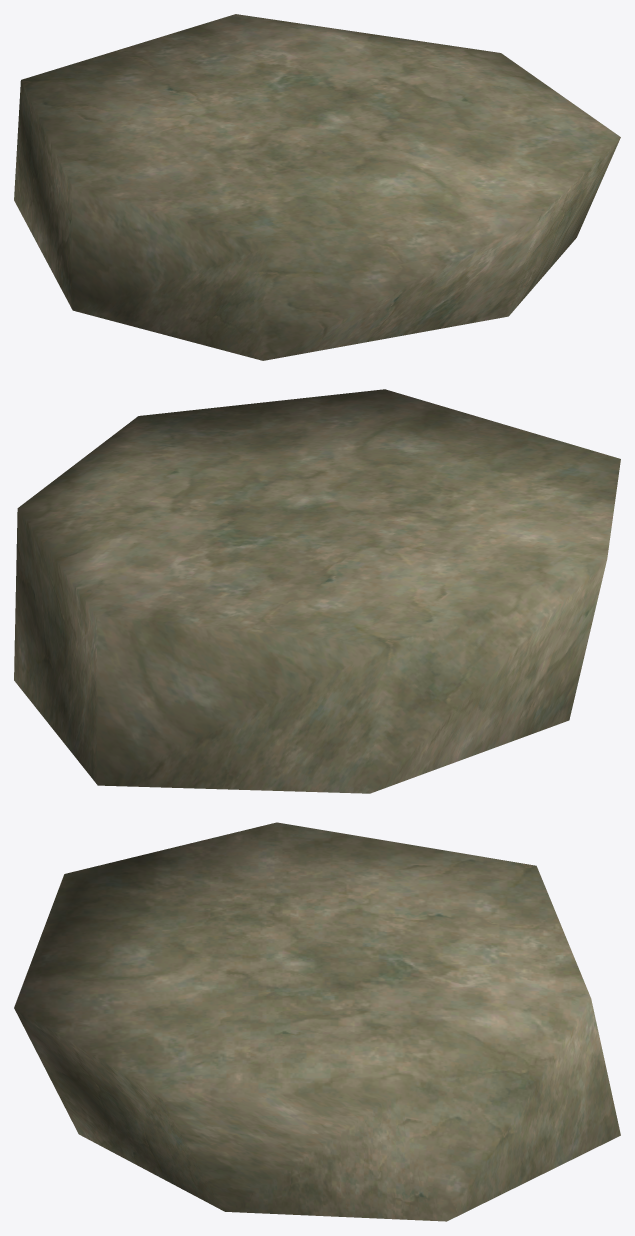
Rendered from EKH_GROTTO_PS_GR_OBJECT41.fbx.
The picture shows the model from 3 angles, top to bottom: view 1: azimuth 30°, elevation 25°; view 2: azimuth 150°, elevation 25°; view 3: azimuth 270°, elevation 25°; orthographic projection. The views are drawn at different scales.
Visible parts, largest first — view 1: EKH_GROTTO_PS_GR_OBJECT41; view 2: EKH_GROTTO_PS_GR_OBJECT41; view 3: EKH_GROTTO_PS_GR_OBJECT41.
Part boxes in pixels (<box>): EKH_GROTTO_PS_GR_OBJECT41: <box>14,14,620,360</box>; EKH_GROTTO_PS_GR_OBJECT41: <box>14,389,620,793</box>; EKH_GROTTO_PS_GR_OBJECT41: <box>14,822,620,1221</box>.
Size of the model in its own units: 22477 by 7204 by 23635.
Materials: 1 (1 with a texture image).
